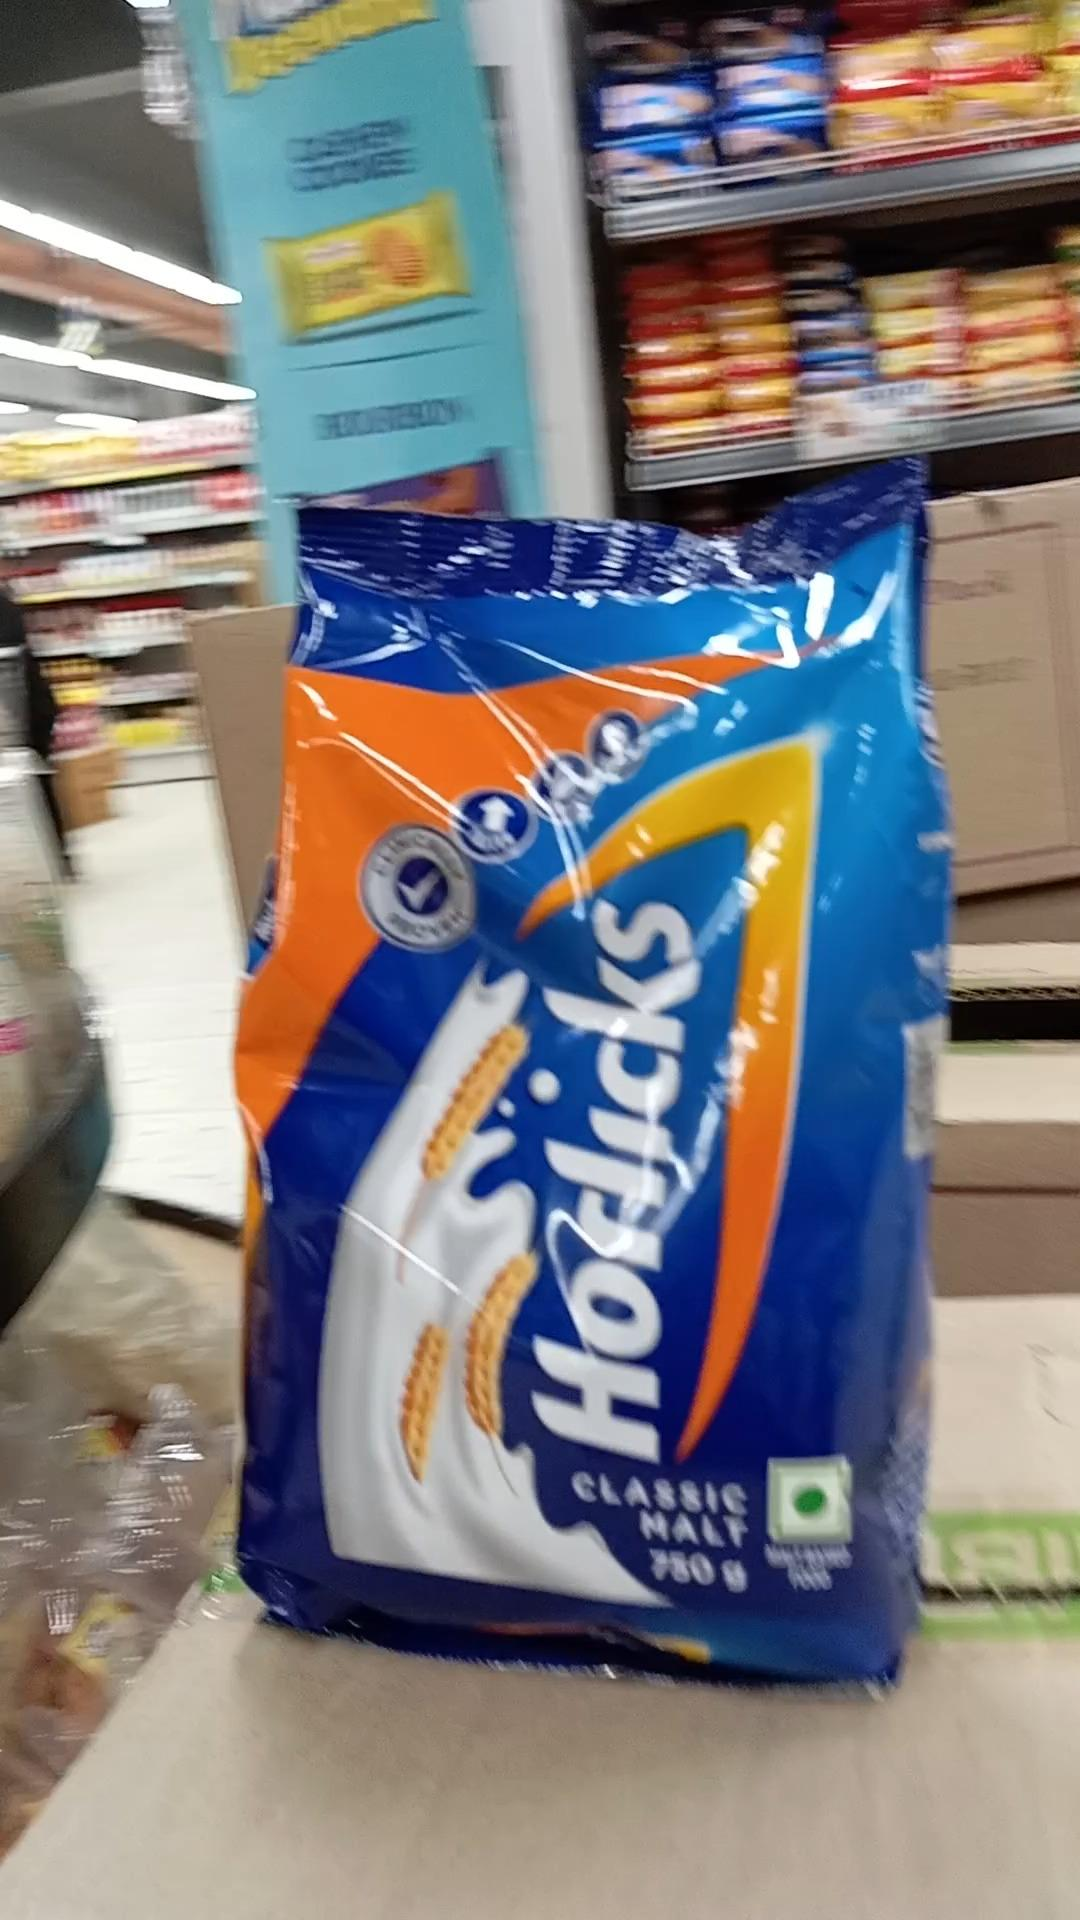HORLICK_CLASSIC_MALT_750_G_POUCH: (255, 480, 930, 1680)
